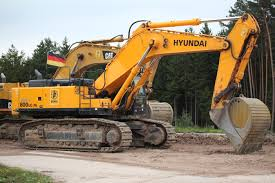excavator: (10, 11, 270, 156)
